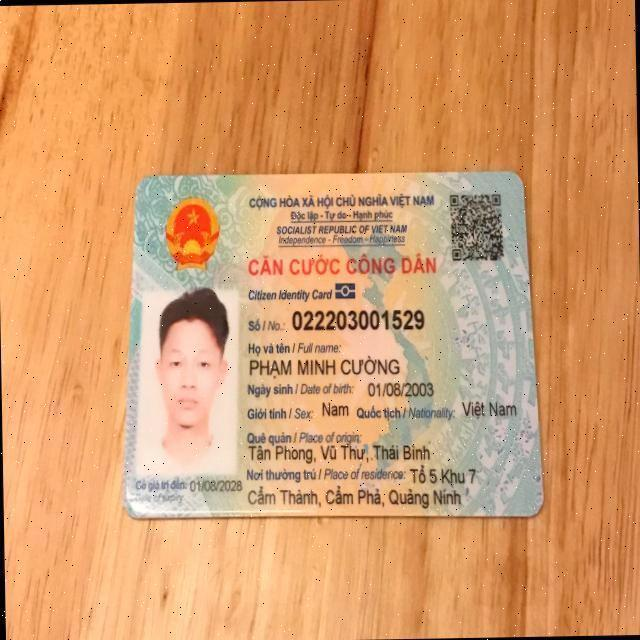current_place: (245, 481, 461, 511), (407, 463, 477, 486)
dob: (364, 375, 440, 403)
expire_date: (187, 476, 245, 493)
gender: (319, 394, 351, 421)
id: (287, 302, 425, 332)
name: (245, 348, 411, 379)
nationality: (458, 393, 519, 426)
origin_place: (250, 439, 431, 465)
